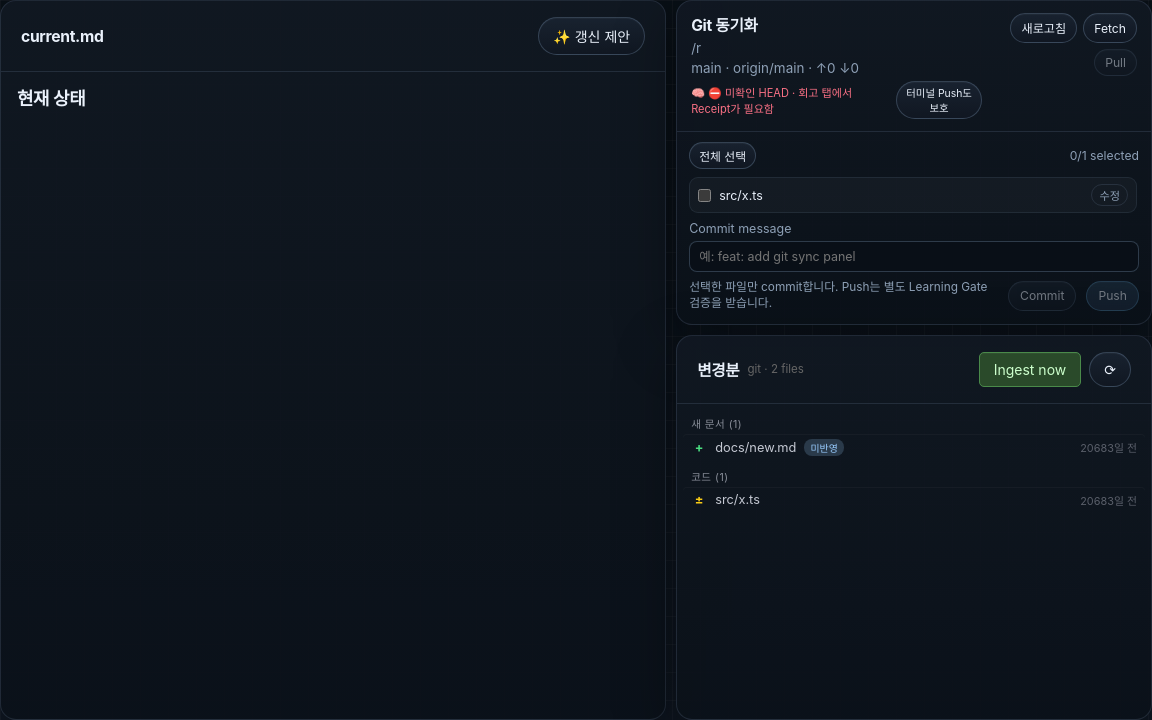
it: ProjectDocumentsView › clicking an unreflected md opens it with an Ingest now header button
Click the text "docs/new.md".
click(756, 448)  # box [715, 440, 796, 455]
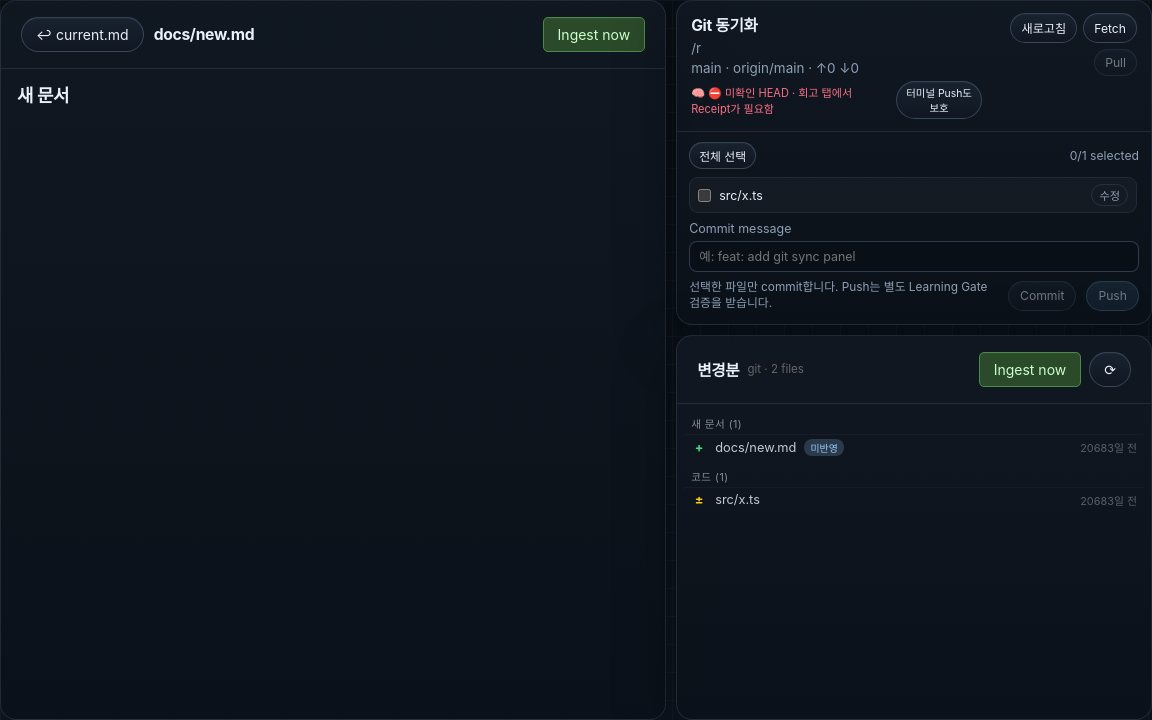
Check: the heading "새 문서" is shown, box [17, 85, 69, 106]
Check: the button "↩ current.md" is shown, box [21, 17, 144, 52]
